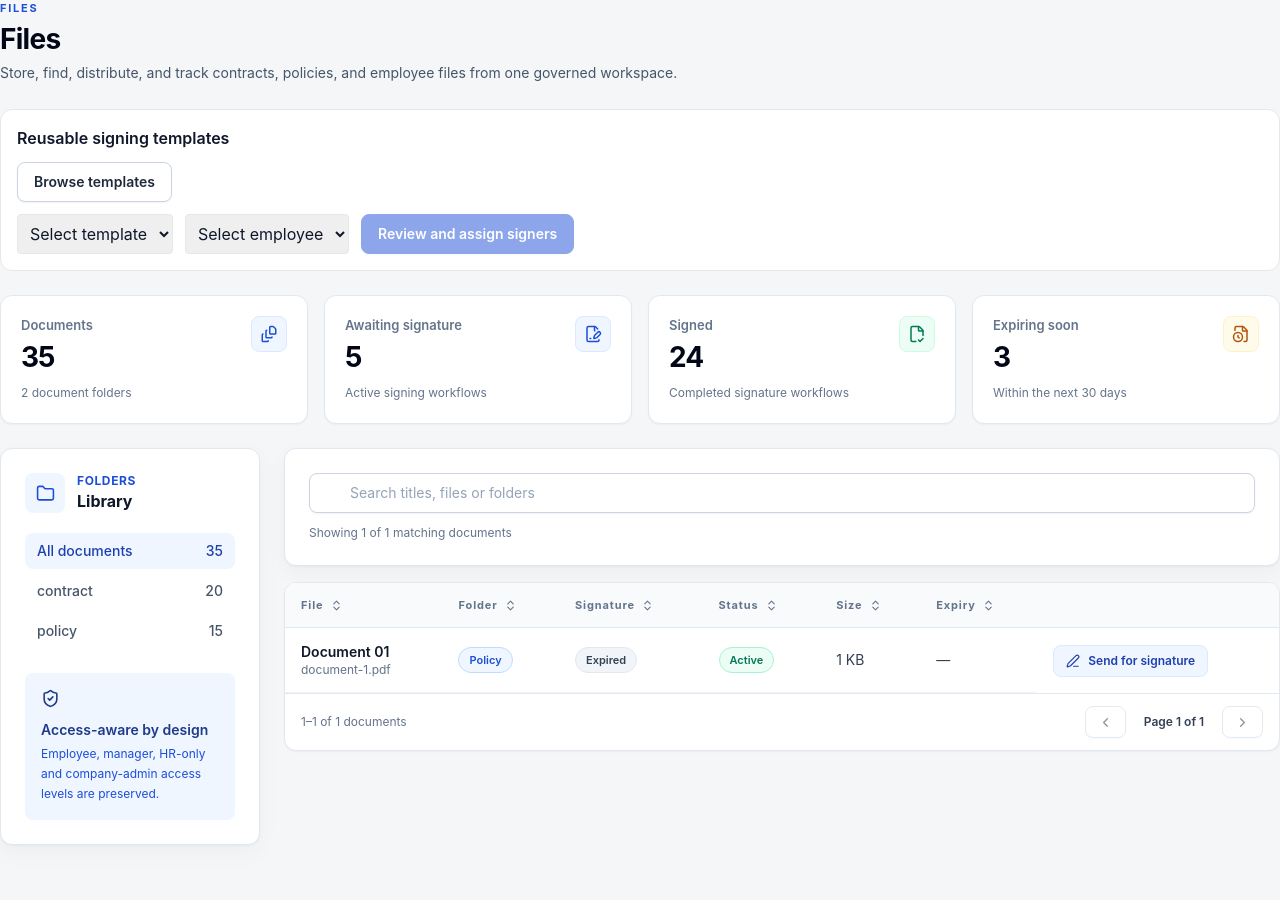
it: allows a new request after a document workflow has expired
The image size is (1280, 900).
Step 1. Click the button "Send for signature" → [1131, 660], box [1053,644,1208,676]
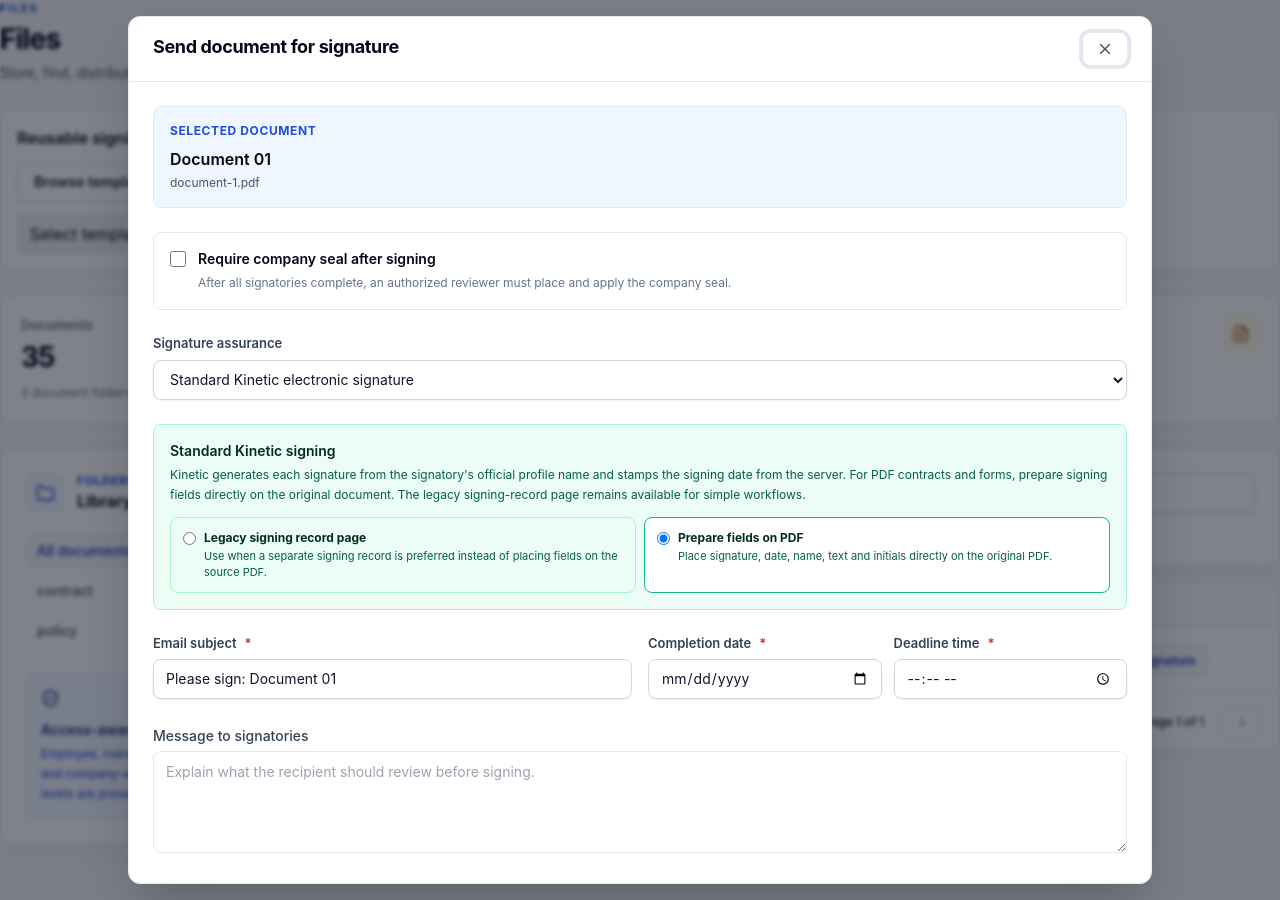
Check: the heading "Send document for signature" is shown, box [153,33,399,61]
